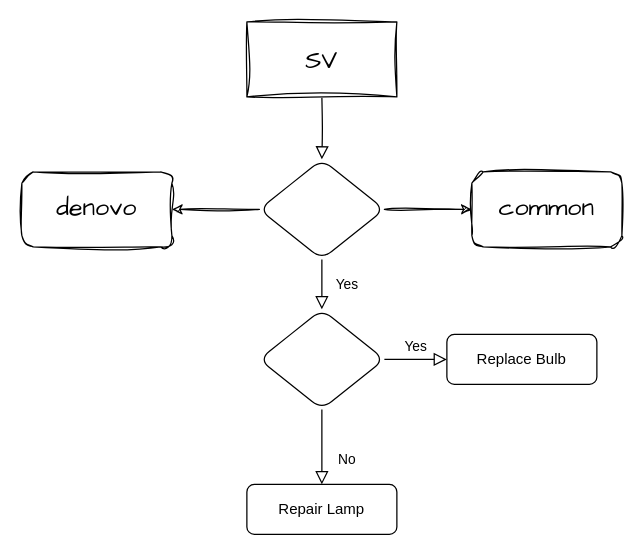
This 644x556 diagram has some shape labels left out. The box of each missing label's shape, as (x1, y1, x2, y2) in pixels:
rare: (258, 308, 384, 409)
type: (258, 158, 384, 259)
